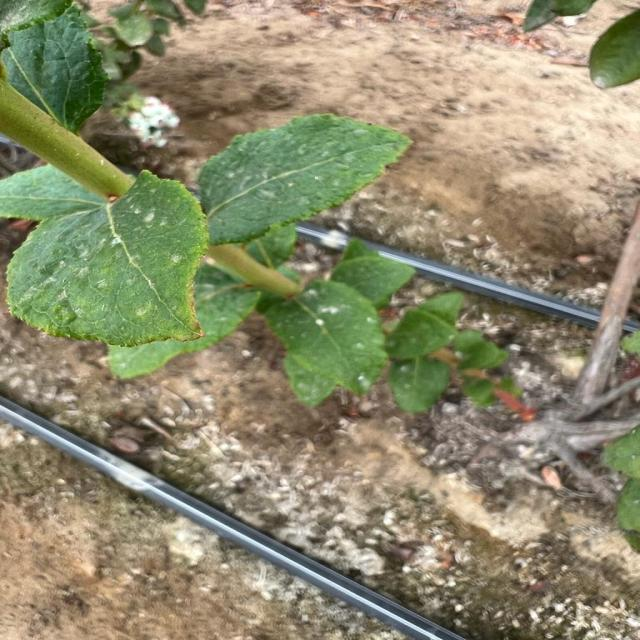Hojas con oidiosis: (4, 167, 209, 346), (163, 110, 415, 252)
